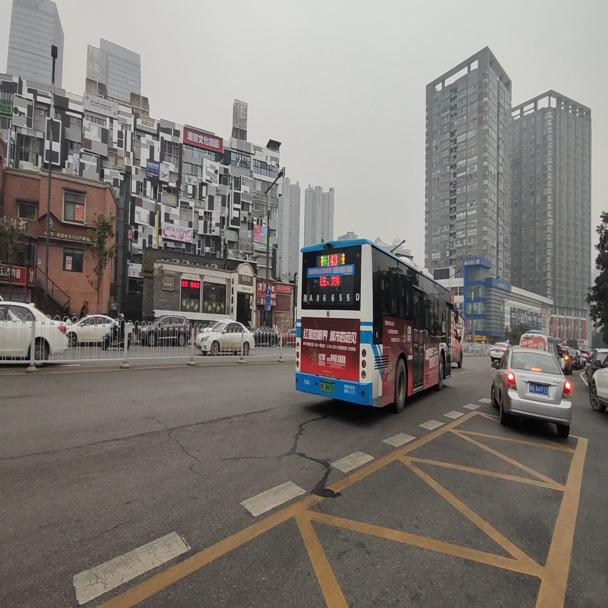bus: (294, 238, 453, 415)
screen: (325, 252, 339, 267)
